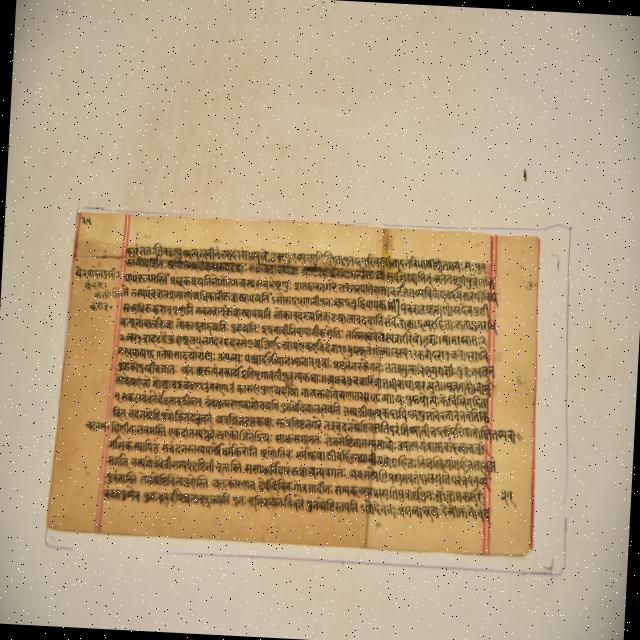text_paragraph: (45, 210, 538, 559)
